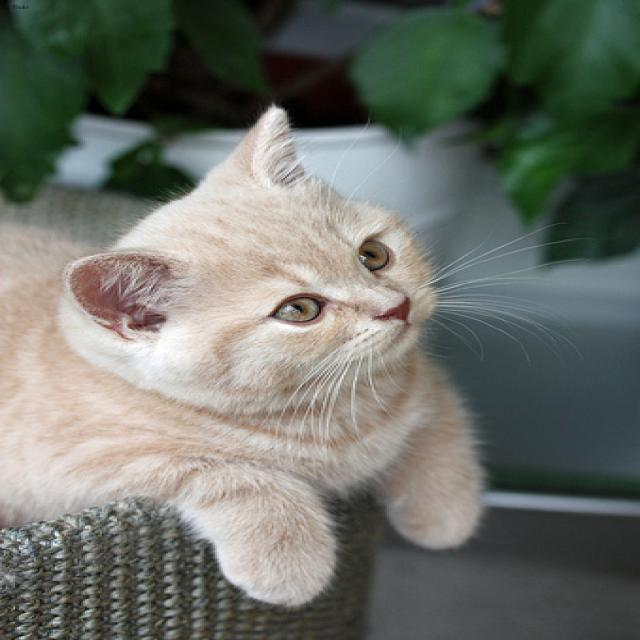British_Shorthair: (57, 106, 452, 416)
